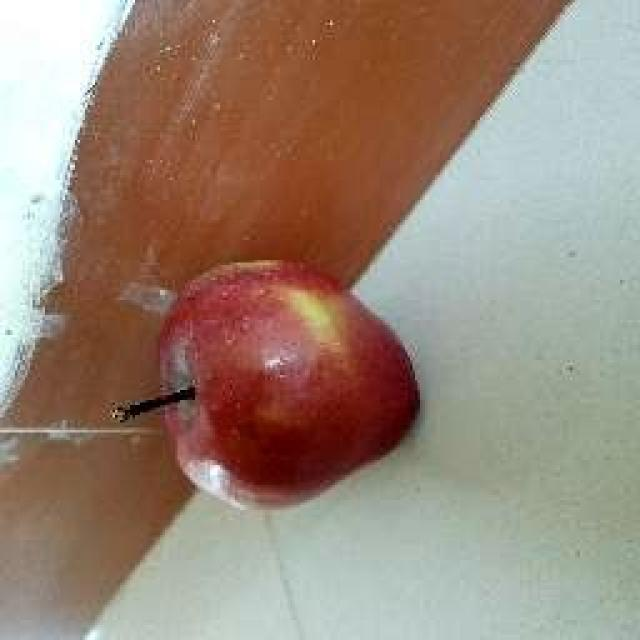Good_Apple: (162, 262, 418, 504)
